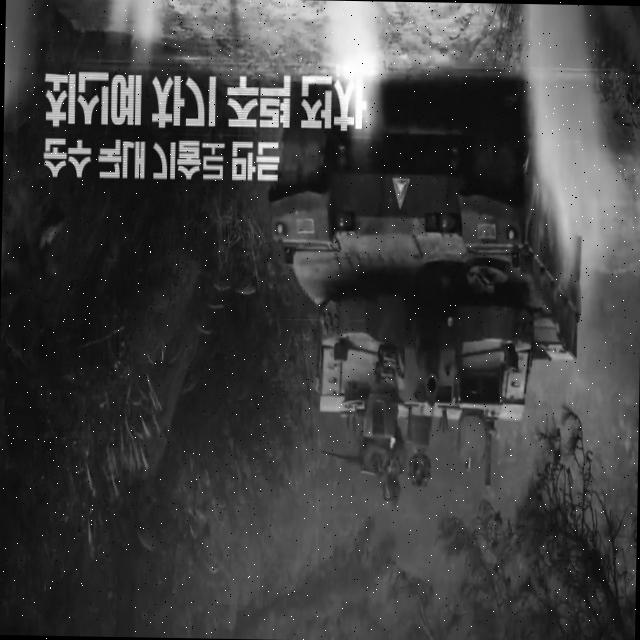korea tank: (262, 71, 586, 512)
